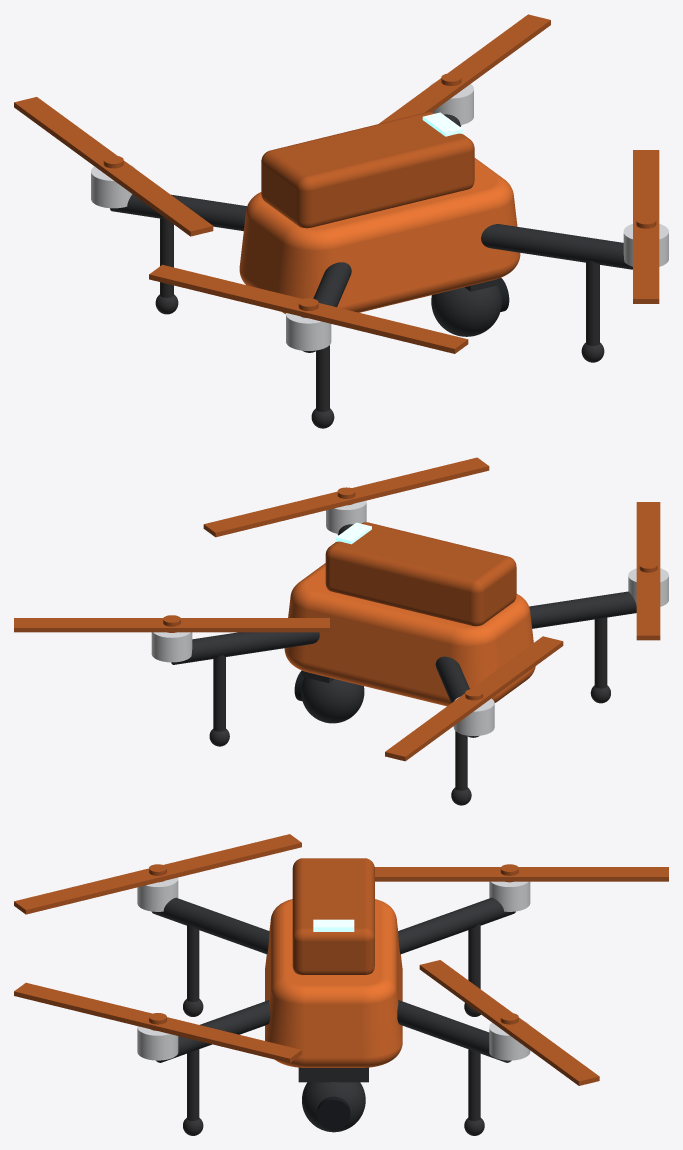
3 views of the same model, one above another, from view 1: azimuth 30°, elevation 25°; view 2: azimuth 150°, elevation 25°; view 3: azimuth 270°, elevation 25° (orthographic). The views are drawn at different scales.
Parts seen in each view (by area): view 1: body.1, accent.30, accent.14, accent.13, accent.12, coat.2, accent.11, coat.21, coat.3, metal.4, rubber.2, metal.3 (+5 smaller); view 2: body.1, accent.30, accent.11, accent.12, accent.13, accent.14, coat.1, coat.4, coat.21, metal.1, metal.3, rubber.4 (+5 smaller); view 3: body.1, accent.30, accent.14, accent.12, accent.13, accent.11, coat.4, coat.3, coat.1, coat.21, coat.2, metal.2 (+10 smaller).
Boxes of the visible parts, x1,y1,x2,y2 form: body.1: (239, 158, 520, 314); accent.30: (261, 112, 474, 228); accent.14: (149, 264, 468, 353); accent.13: (14, 97, 213, 236); accent.12: (633, 150, 659, 303); coat.2: (481, 224, 632, 269); accent.11: (379, 14, 550, 123); coat.21: (431, 285, 501, 336); coat.3: (110, 194, 246, 230); metal.4: (286, 313, 331, 350); rubber.2: (586, 260, 599, 345); metal.3: (91, 164, 135, 208); body.1: (284, 563, 535, 706); accent.30: (325, 522, 516, 626); accent.11: (14, 618, 329, 632); accent.12: (203, 457, 489, 537); accent.13: (385, 636, 563, 761); accent.14: (636, 502, 660, 640); coat.1: (171, 632, 319, 664); coat.4: (529, 591, 636, 628); coat.21: (301, 677, 364, 723); metal.1: (151, 632, 192, 662); metal.3: (453, 697, 494, 735); rubber.4: (594, 617, 607, 688); body.1: (265, 899, 402, 1067); accent.30: (292, 858, 374, 974); accent.14: (14, 834, 301, 914); accent.12: (14, 982, 301, 1063); accent.13: (374, 867, 668, 881); accent.11: (419, 960, 599, 1085); coat.4: (151, 897, 269, 954); coat.3: (398, 897, 515, 954); coat.1: (397, 1000, 511, 1062); coat.21: (302, 1082, 365, 1132); coat.2: (156, 1000, 270, 1062); metal.2: (137, 1026, 178, 1060).
Bounding box in the file's own units: 0.2568 × 0.0945 × 0.2872.
